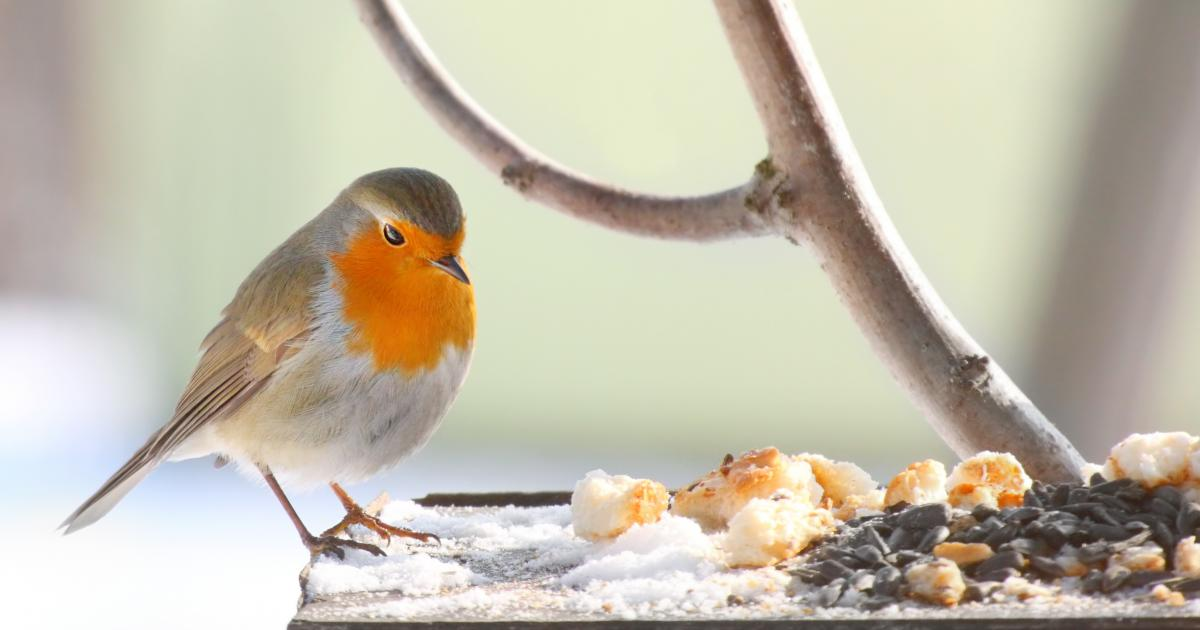bird: (45, 139, 509, 583)
